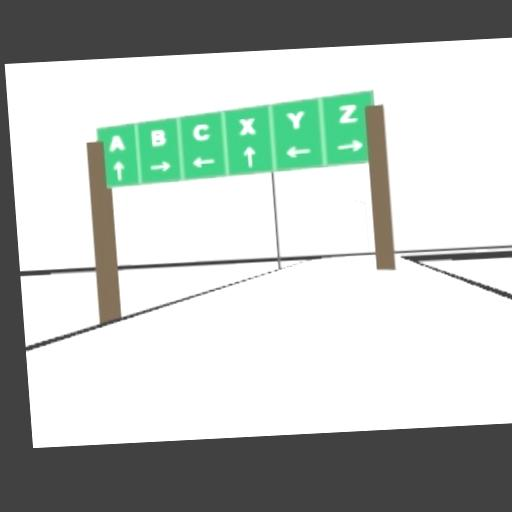A: (108, 134, 124, 151)
B: (150, 128, 166, 146)
C: (191, 122, 210, 140)
Left: (285, 144, 314, 160), (190, 157, 215, 168)
Right: (337, 138, 366, 155), (149, 160, 172, 173)
Straight: (111, 159, 127, 184), (242, 145, 257, 168)
X: (237, 117, 258, 136)
Y: (285, 109, 305, 129)
Z: (336, 102, 359, 125)
